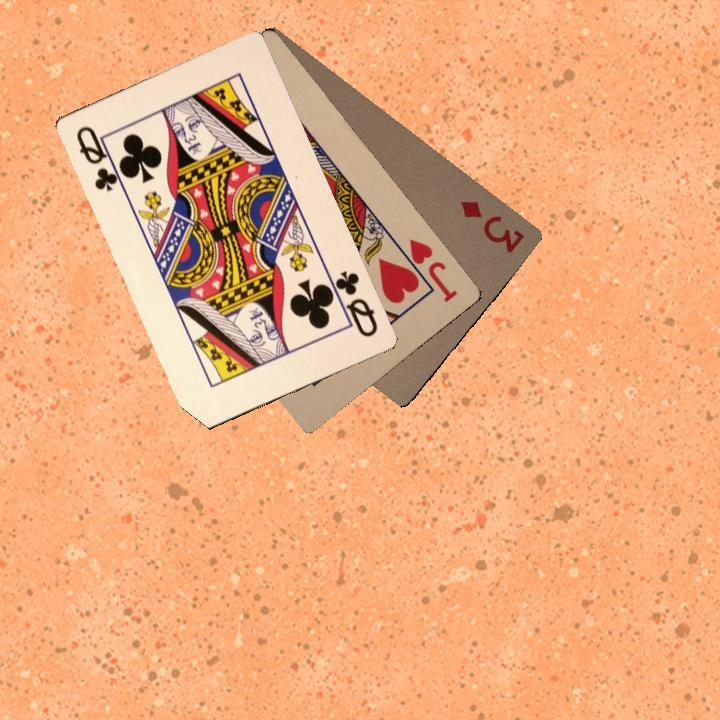3d: (456, 195, 528, 256)
Jh: (394, 234, 460, 305)
Qc: (324, 266, 380, 340), (72, 122, 128, 194)
